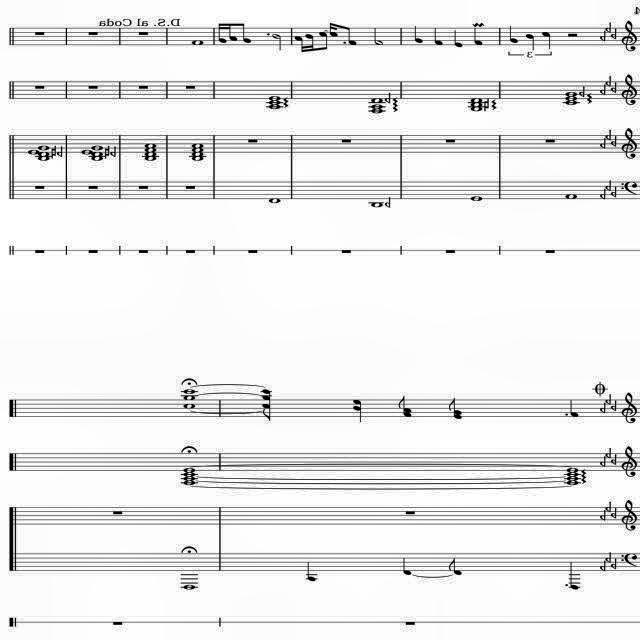Bass-clef: (620, 70, 640, 106), (619, 499, 640, 532), (620, 446, 640, 478), (620, 392, 640, 423), (622, 19, 638, 53), (622, 126, 638, 160), (639, 499, 640, 532)
Bemol: (610, 556, 620, 570), (610, 136, 620, 148), (598, 188, 608, 200), (598, 402, 608, 414), (610, 508, 620, 520), (56, 144, 64, 158), (605, 501, 615, 512), (606, 75, 614, 88), (597, 561, 607, 571), (610, 26, 618, 38), (600, 30, 608, 42), (612, 81, 620, 93), (384, 92, 392, 104), (604, 130, 612, 142), (598, 138, 606, 150), (604, 180, 612, 192), (610, 186, 618, 198), (386, 196, 394, 208), (110, 146, 118, 158), (611, 400, 619, 412), (610, 452, 618, 464), (606, 447, 614, 459), (600, 454, 608, 466), (606, 550, 614, 562), (599, 84, 607, 95), (606, 22, 612, 34), (579, 85, 585, 96), (606, 394, 612, 404), (600, 510, 606, 520)
Eighth-note: (447, 556, 465, 576), (240, 21, 254, 45), (348, 27, 360, 46), (318, 33, 328, 51)
Full-note: (564, 193, 580, 201), (564, 100, 580, 106), (267, 198, 283, 204), (564, 96, 578, 102), (183, 480, 197, 486), (182, 584, 196, 590), (192, 39, 204, 45), (470, 97, 482, 103), (370, 108, 382, 114), (470, 196, 482, 202), (37, 145, 49, 151), (184, 389, 196, 395), (566, 480, 578, 486), (182, 468, 198, 472), (565, 92, 579, 96), (268, 96, 282, 100), (267, 100, 281, 104), (268, 105, 282, 109), (565, 476, 579, 480), (371, 105, 384, 109), (38, 152, 51, 156), (182, 396, 195, 400), (470, 106, 482, 110), (370, 202, 382, 206), (192, 144, 204, 148), (192, 148, 204, 152), (192, 152, 204, 156), (192, 156, 204, 160), (144, 144, 156, 148), (144, 148, 156, 152), (144, 152, 156, 156), (144, 156, 156, 160), (91, 146, 103, 150), (91, 152, 103, 156), (38, 156, 50, 160), (182, 404, 194, 408), (566, 468, 578, 472), (566, 472, 578, 476), (183, 472, 195, 476), (182, 476, 194, 480), (471, 102, 482, 106), (371, 98, 382, 102), (91, 156, 102, 160), (81, 150, 91, 154), (28, 150, 38, 154)
Half-note: (272, 32, 286, 52), (372, 28, 384, 46)
Quarter-note: (569, 560, 587, 592), (304, 560, 322, 584), (472, 27, 488, 47), (568, 398, 584, 418), (541, 32, 555, 52), (508, 25, 520, 45), (414, 24, 426, 44), (452, 28, 463, 48), (524, 34, 536, 50), (401, 558, 413, 574), (434, 27, 444, 45)
Sixteenth-note: (305, 34, 315, 54), (227, 21, 237, 41), (218, 22, 226, 46), (294, 35, 302, 53), (329, 22, 337, 38)
